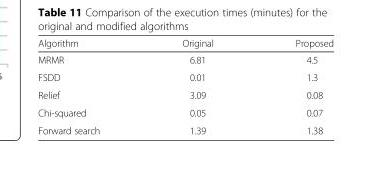table: (37, 37, 333, 135)
table column: (140, 37, 253, 135), (37, 37, 140, 135), (253, 37, 333, 135)
table column header: (37, 37, 333, 50)
table row: (37, 50, 333, 68), (37, 85, 333, 103), (37, 103, 333, 121), (37, 68, 333, 85), (37, 121, 333, 135), (37, 37, 333, 50)
